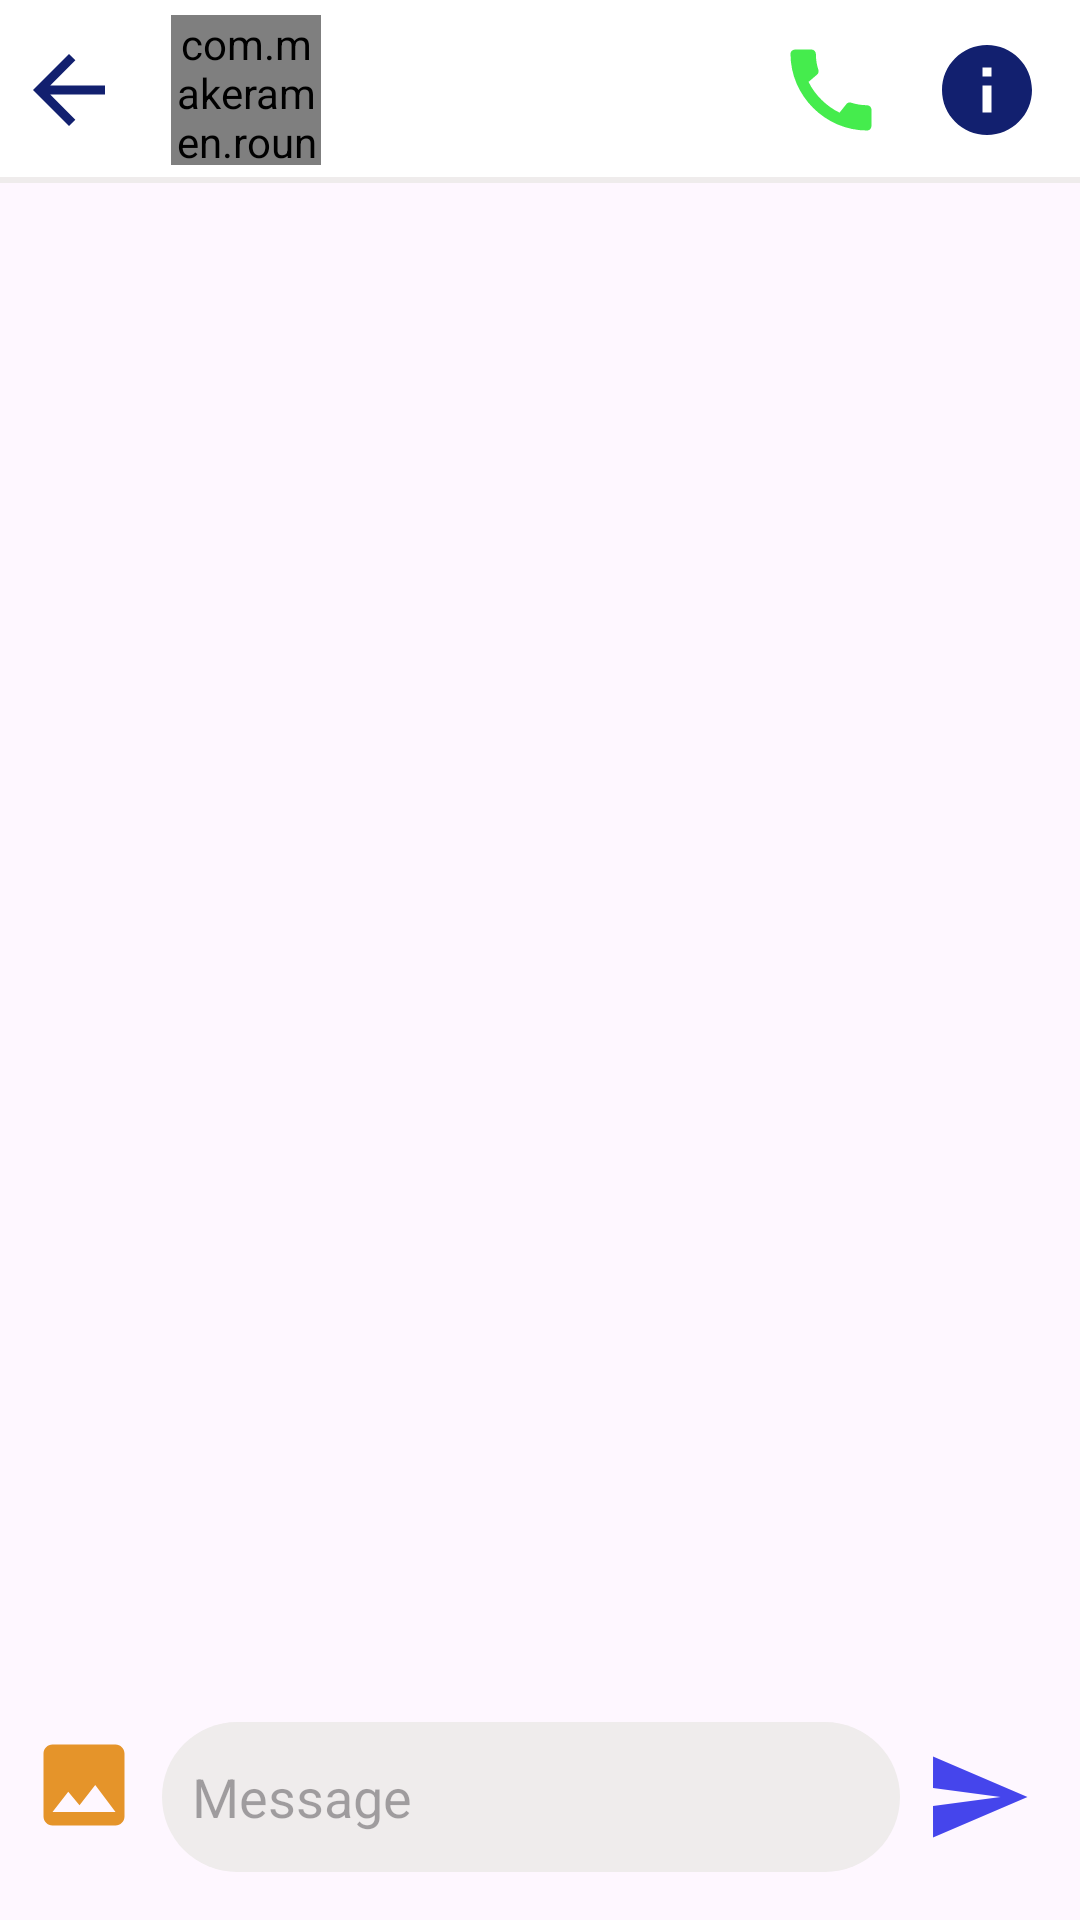

Icons on this 1080x1920 Android screen, each with the point to tap as (x=x, y=y):
arrow back: (x=69, y=90)
call: (x=831, y=90)
info: (x=987, y=90)
send: (x=980, y=1797)
